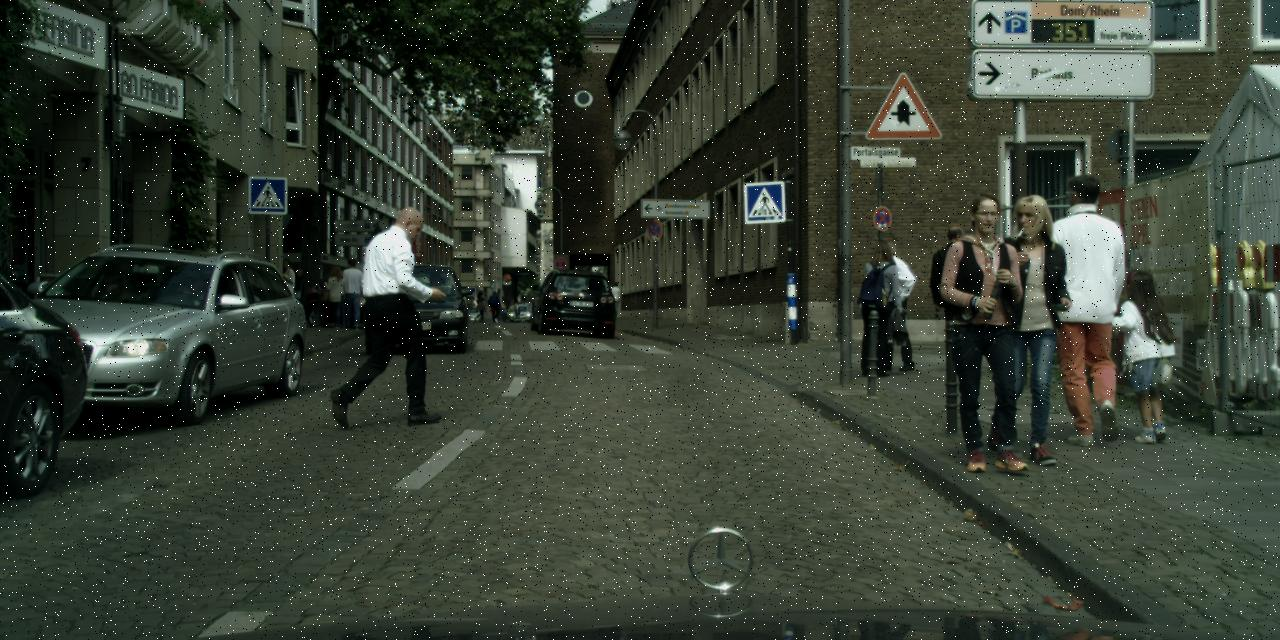ped: (933, 192, 1046, 467), (1038, 174, 1146, 438), (972, 195, 1077, 453), (352, 208, 438, 420), (1111, 268, 1181, 440), (933, 225, 992, 370), (851, 240, 906, 376), (866, 242, 918, 368), (337, 256, 366, 328), (272, 258, 299, 326), (323, 266, 347, 326), (608, 281, 622, 317), (488, 290, 500, 321), (474, 290, 484, 320), (513, 302, 521, 322)
